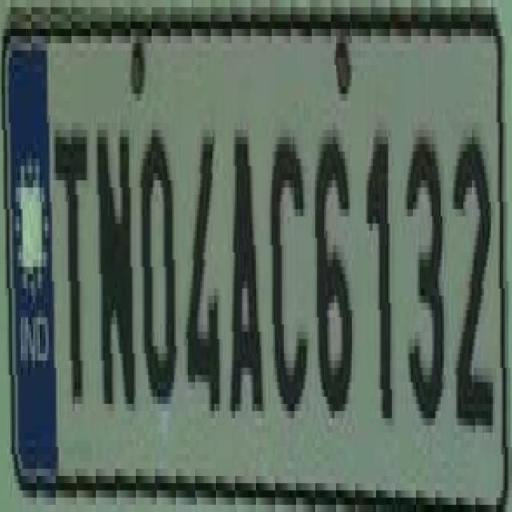number plate: (0, 14, 488, 512)
